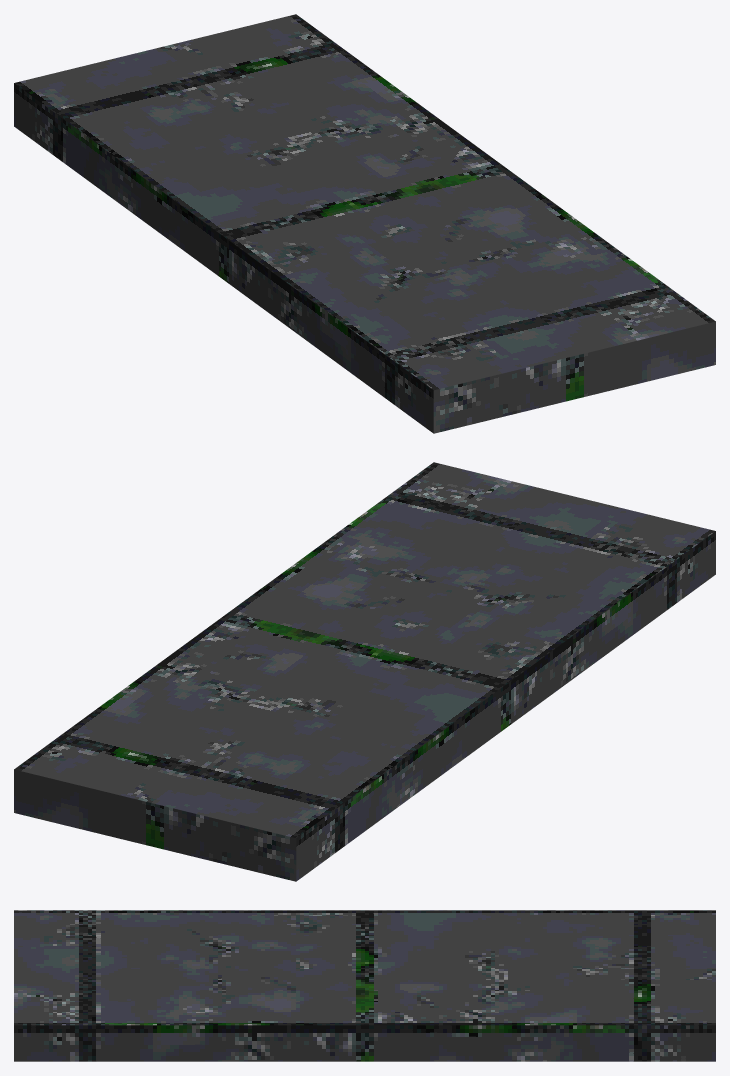
File: tomb_slab_02_002.gltf
3 views of the same model, one above another, from view 1: azimuth 30°, elevation 25°; view 2: azimuth 150°, elevation 25°; view 3: azimuth 270°, elevation 25° (orthographic). The views are drawn at different scales.
Parts seen in each view (by area): view 1: tomb_slab_02.002; view 2: tomb_slab_02.002; view 3: tomb_slab_02.002.
Boxes of the visible parts, x1=… form: tomb_slab_02.002: x1=14, y1=14, x2=715, y2=433; tomb_slab_02.002: x1=14, y1=462, x2=715, y2=881; tomb_slab_02.002: x1=14, y1=910, x2=715, y2=1061.
Size of the model in its own units: 1.02 by 0.15 by 2.63.
Materials: 1 (1 with a texture image).
